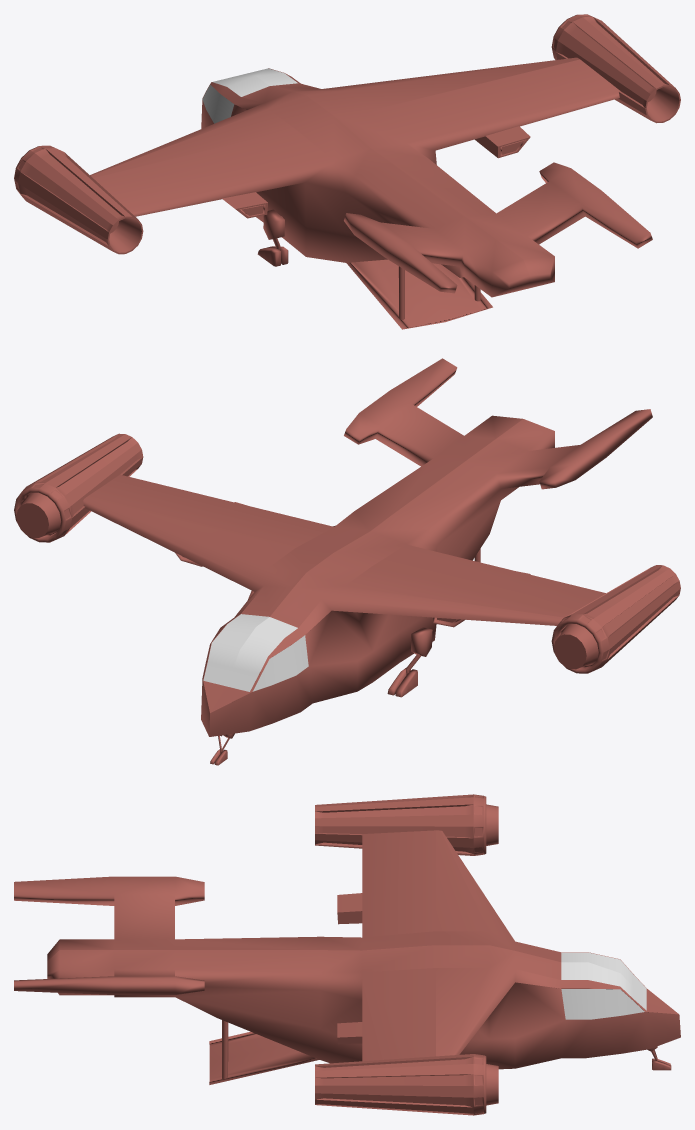
Rendered from Rumskibs final copy.fbx.
3 views of the same model, one above another, from view 1: azimuth 30°, elevation 25°; view 2: azimuth 150°, elevation 25°; view 3: azimuth 270°, elevation 25° (orthographic).
Parts seen in each view (by area): view 1: Plane; view 2: Plane; view 3: Plane.
Boxes of the visible parts, x1,y1,x2,y2 form: Plane: (14,14,680,329); Plane: (14,358,680,765); Plane: (14,794,680,1115).
Bounding box in the file's own units: 2642 × 611 × 2608.
